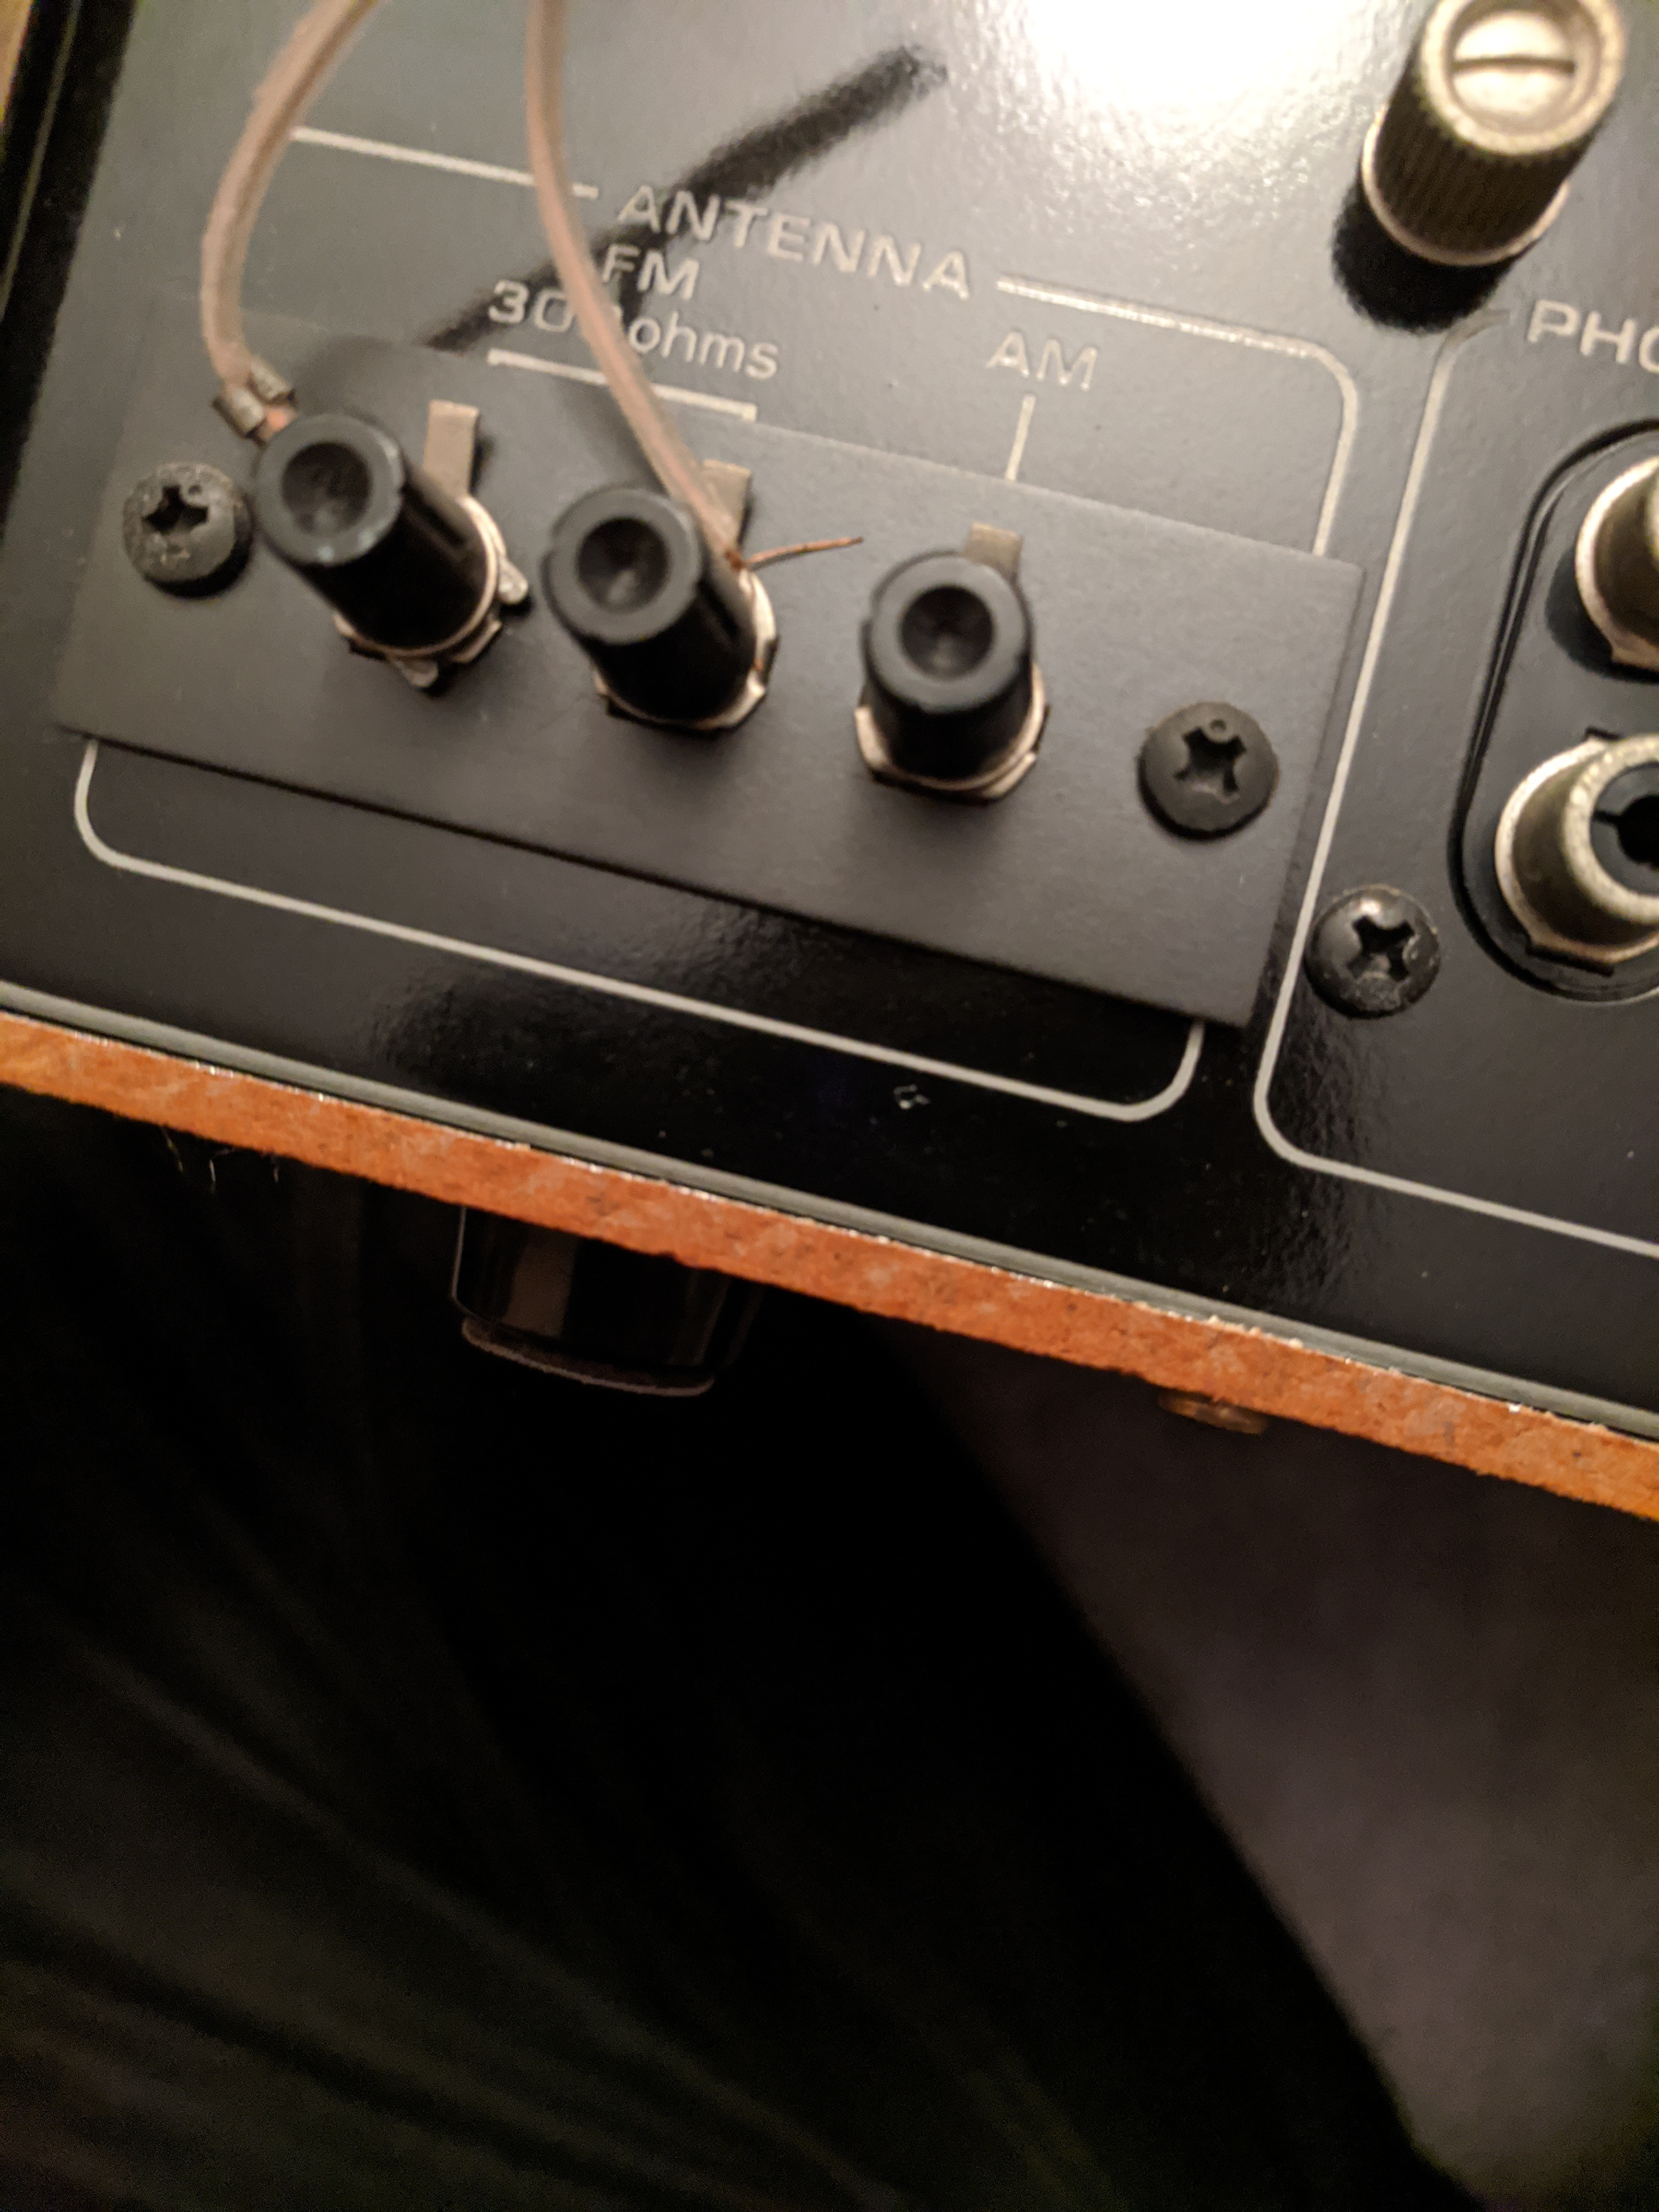cross_recessed_screw: (1126, 688, 1295, 827), (1303, 873, 1460, 1021), (105, 446, 246, 594)
